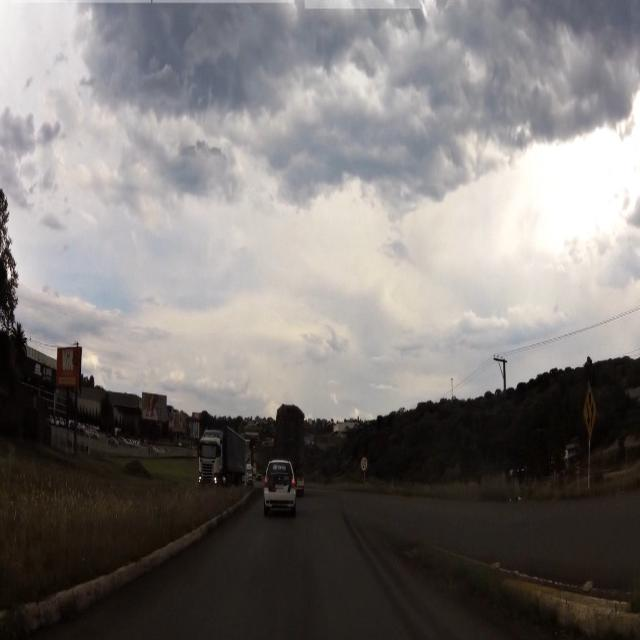A-42a: (582, 382, 598, 438)
